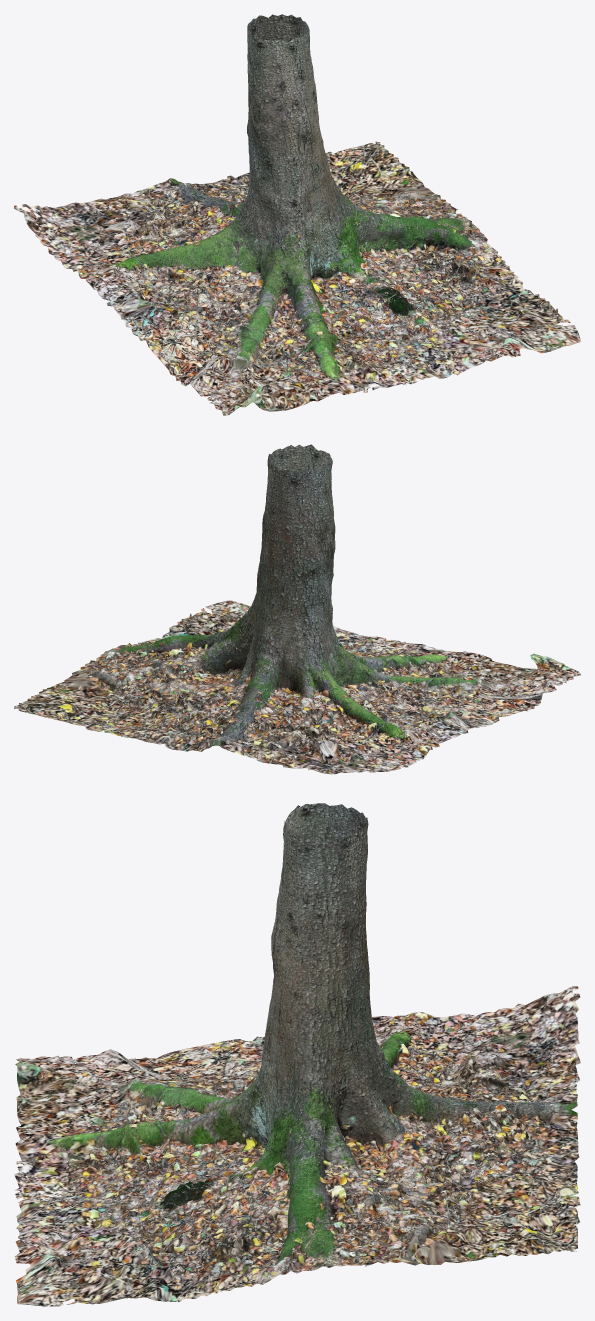
Rendered from roots.glb.
3 views of the same model, one above another, from view 1: azimuth 30°, elevation 25°; view 2: azimuth 150°, elevation 25°; view 3: azimuth 270°, elevation 25° (orthographic). The views are drawn at different scales.
Parts seen in each view (by area): view 1: roots; view 2: roots; view 3: roots.
Part boxes in pixels (<box>): roots: <box>14,14,580,415</box>; roots: <box>14,444,580,774</box>; roots: <box>14,803,580,1306</box>.
Size of the model in its own units: 0.9889 by 0.7198 by 1.
1 material, 1 textured.
